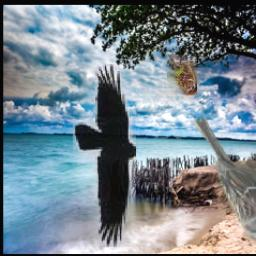Crow: (74, 64, 137, 247)
Sparrow: (194, 117, 256, 244), (167, 55, 197, 95)
